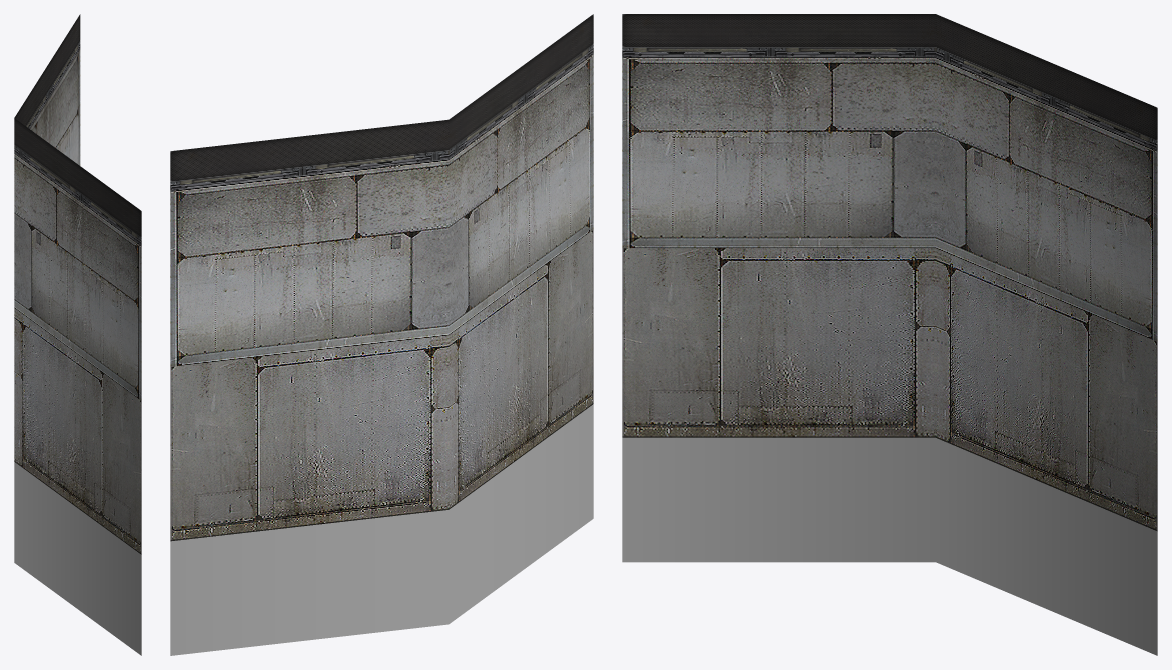
The model's file is Wall_A_Mid4mts_10.fbx.
The picture shows the model from 3 angles, left to right: view 1: azimuth 30°, elevation 25°; view 2: azimuth 150°, elevation 25°; view 3: azimuth 270°, elevation 25°; orthographic projection. The views are drawn at different scales.
Visible parts, largest first — view 1: Wall_A_Mid4mts_10; view 2: Wall_A_Mid4mts_10; view 3: Wall_A_Mid4mts_10.
Boxes of the visible parts, box(x1,y1,x2,y2) form: Wall_A_Mid4mts_10: box(14, 14, 141, 655); Wall_A_Mid4mts_10: box(170, 14, 593, 655); Wall_A_Mid4mts_10: box(622, 14, 1157, 655).
Bounding box in the file's own units: 147 × 400 × 354.
